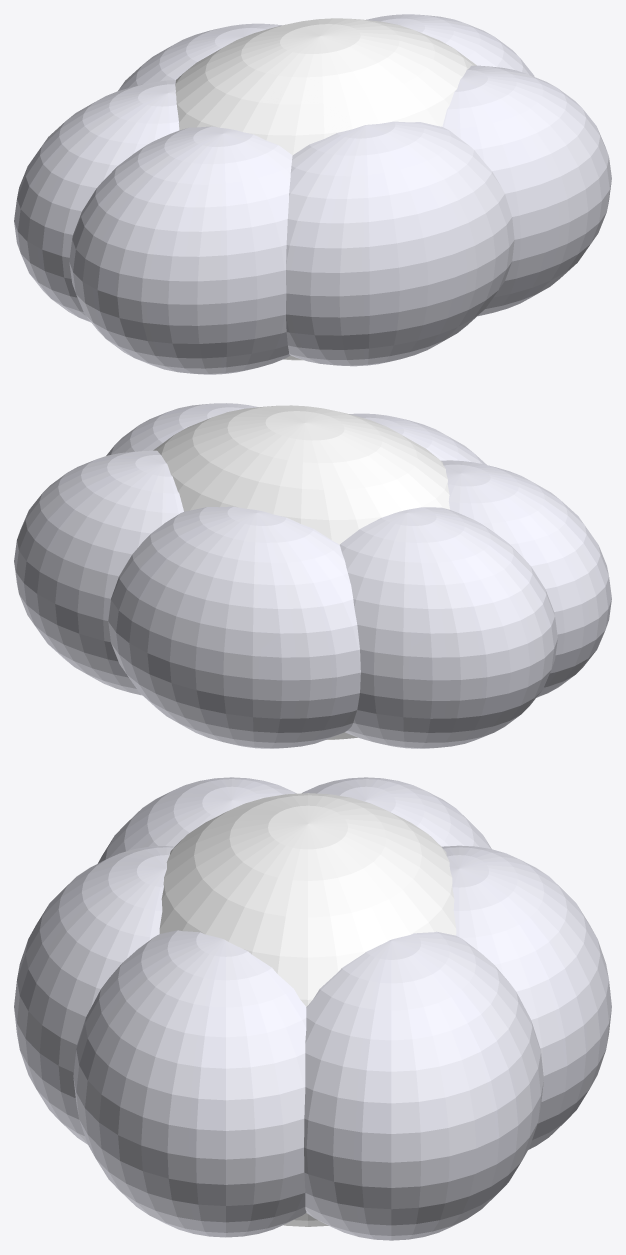
The model's file is nube.obj.
3 renders of one model, top to bottom at view 1: azimuth 30°, elevation 25°; view 2: azimuth 150°, elevation 25°; view 3: azimuth 270°, elevation 25°, orthographic. The views are drawn at different scales.
Parts seen in each view (by area): view 1: Esfera.001; view 2: Esfera.001; view 3: Esfera.001.
Boxes of the visible parts, x1=… form: Esfera.001: x1=14, y1=14, x2=611, y2=374; Esfera.001: x1=14, y1=403, x2=611, y2=748; Esfera.001: x1=14, y1=777, x2=611, y2=1240.
Size of the model in its own units: 89.74 by 50.66 by 73.79.
Materials: 7 (7 with a texture image).
